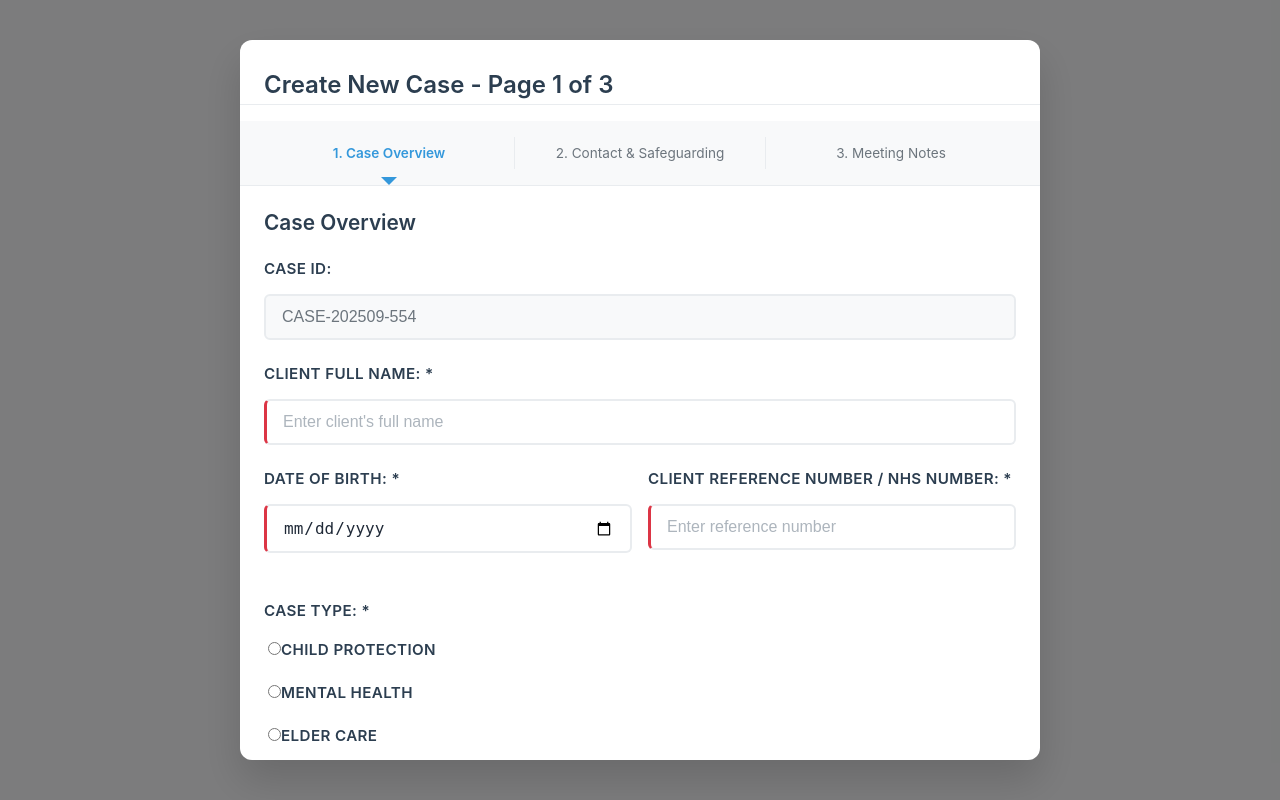
Test: Case Management Integration › Case Creation and Management Flow › creates case with basic information
Expected: the heading "Create New Case - Page 1 of 3" is shown, [264,70,614,98]
Fill out basic case information
Type "Test Client" into the field labelled "Client Full Name: *" at (640, 422), box [264,399,1016,445]
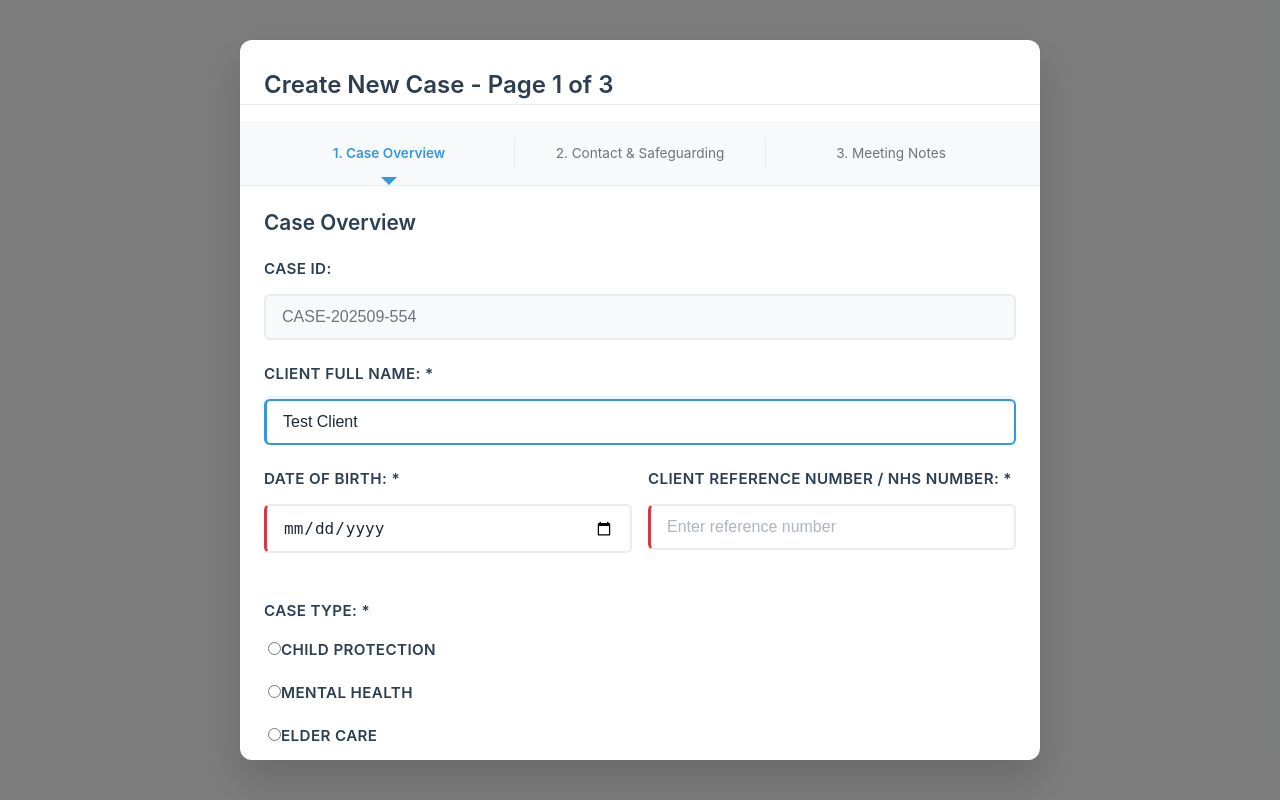
Type "1990-01-01" into the date field labelled "Date of Birth: *" at (448, 528), box [264,504,632,553]
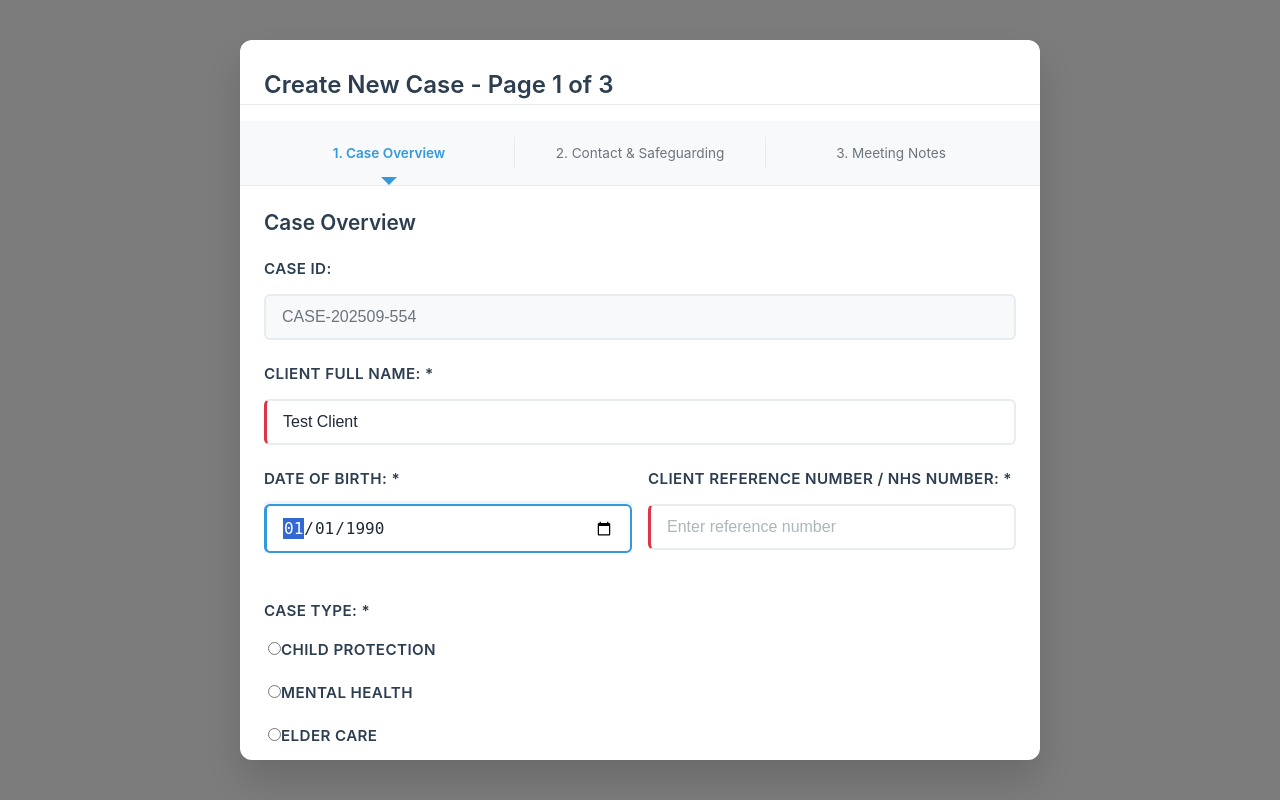
Type "REF123" into the field labelled "Client Reference Number / NHS Number: *" at (832, 527), box [648,504,1016,550]
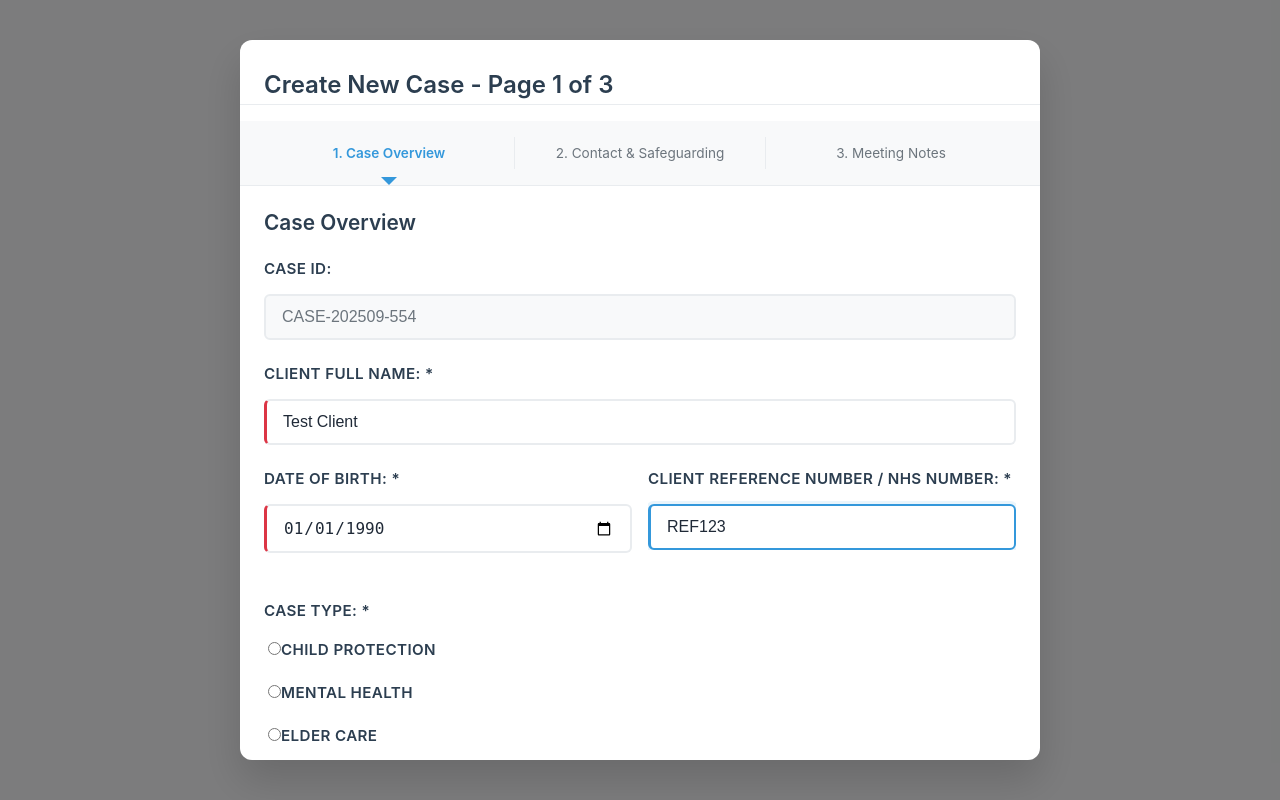
Select case type (radio button)
Click the radio button showing "Child Protection" at (274, 648), box [268,642,281,655]
(page scrolled)
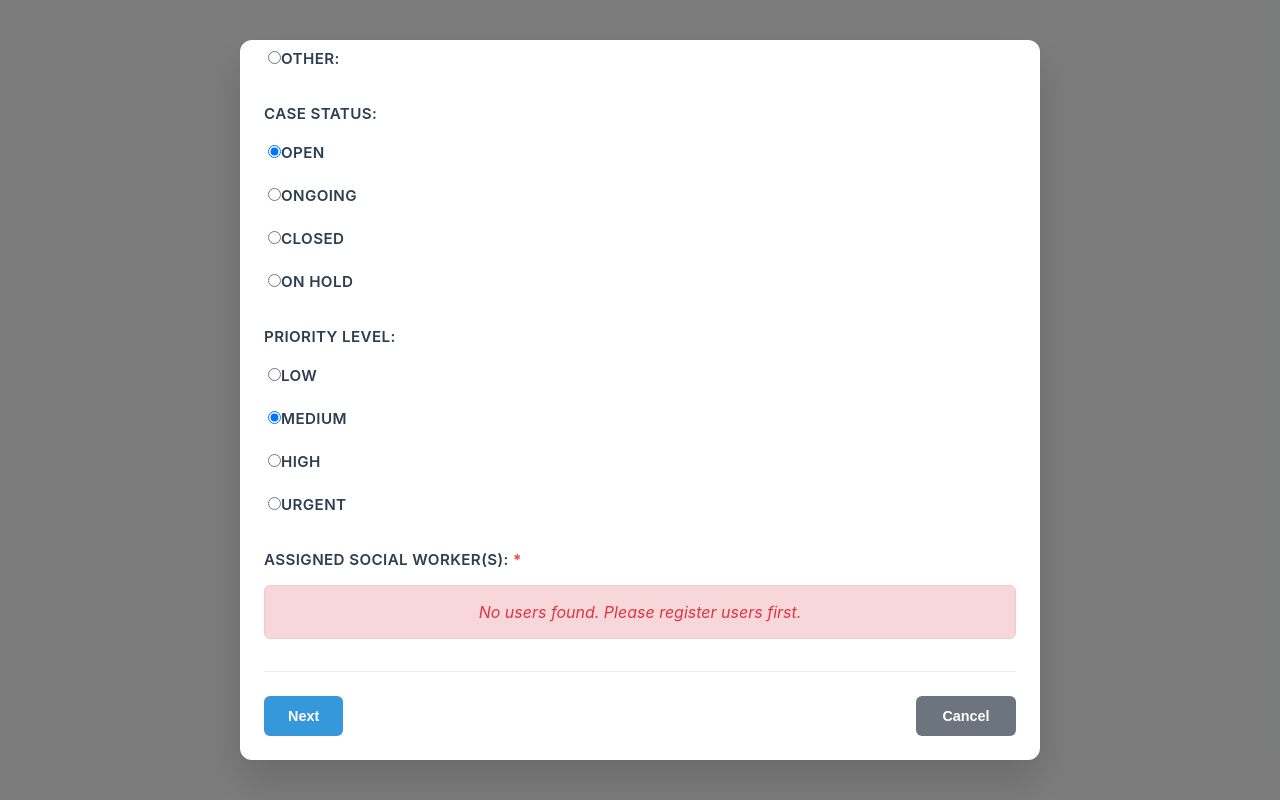
Select priority level (radio button)
Click the radio button showing "High" at (274, 460), box [268,454,281,467]
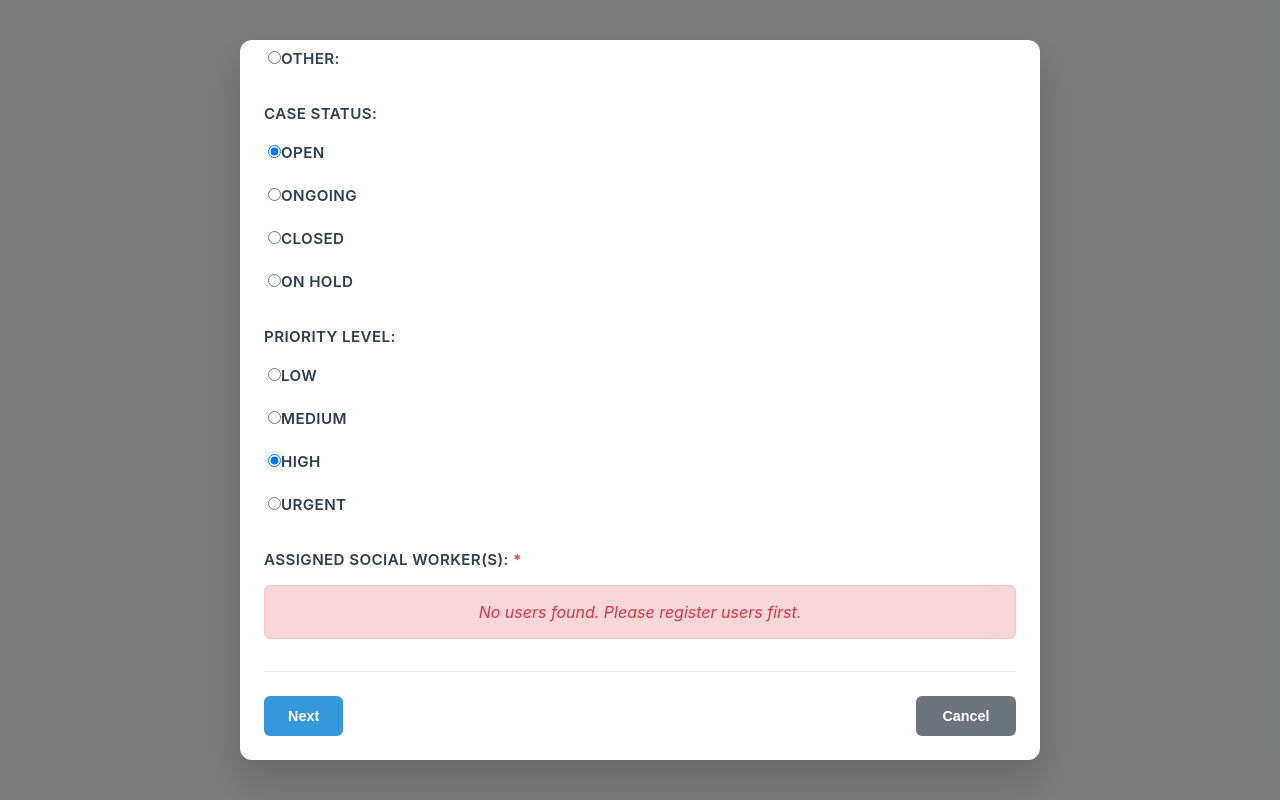
Click Next button to proceed
Click the button "Next" at (304, 716), box [264,696,343,736]
(page scrolled)
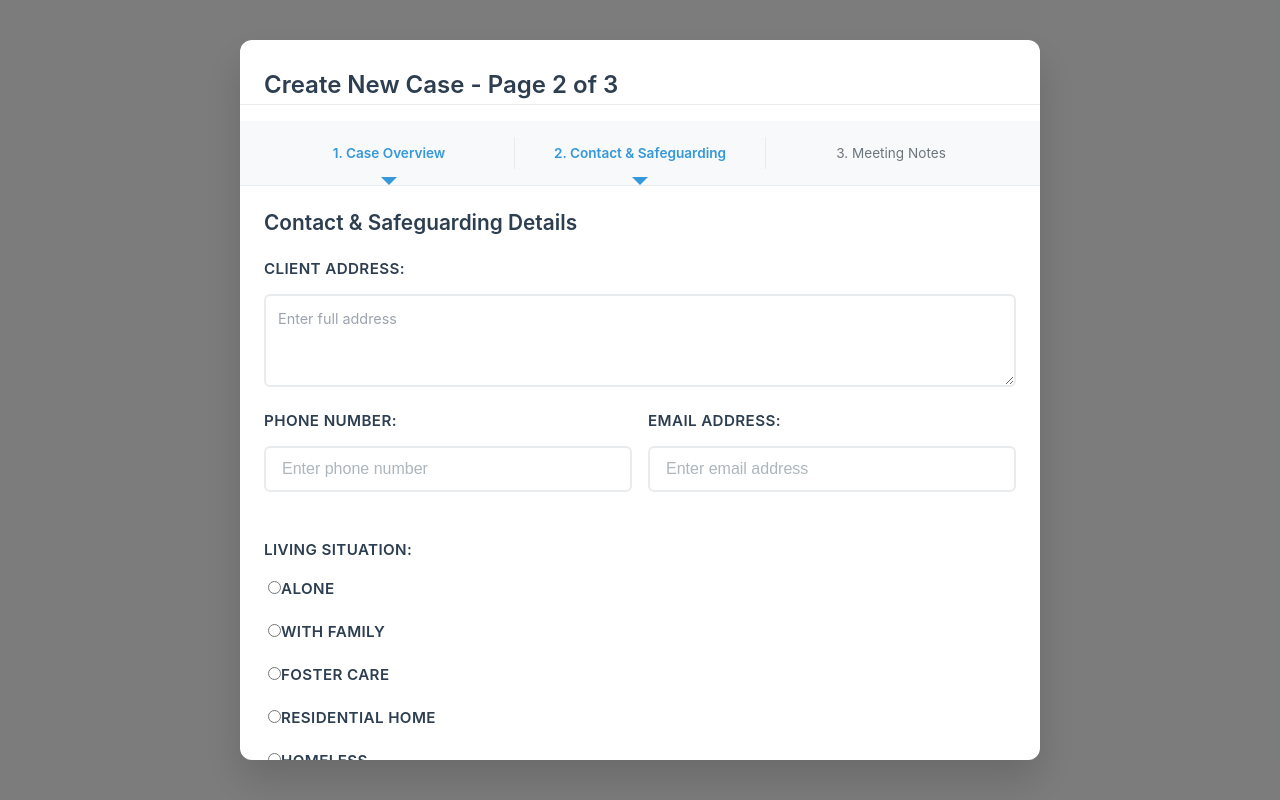
Result: the heading "Contact & Safeguarding Details" is shown at [264,210,577,235]
